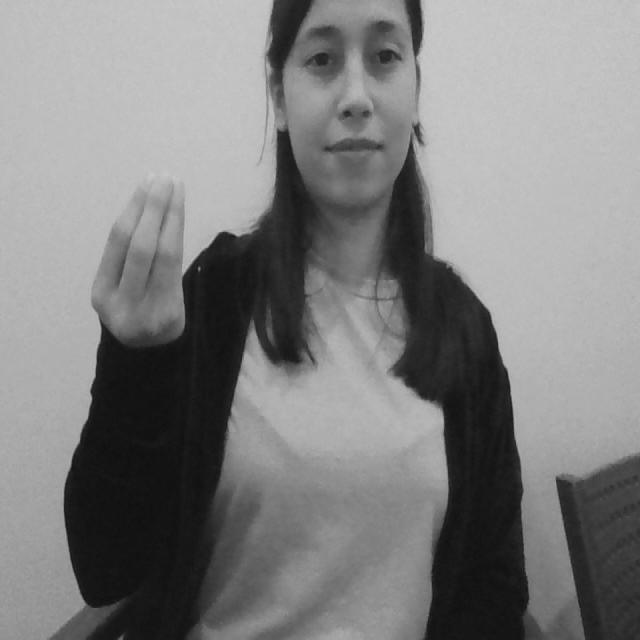iyi: (89, 170, 190, 349)
